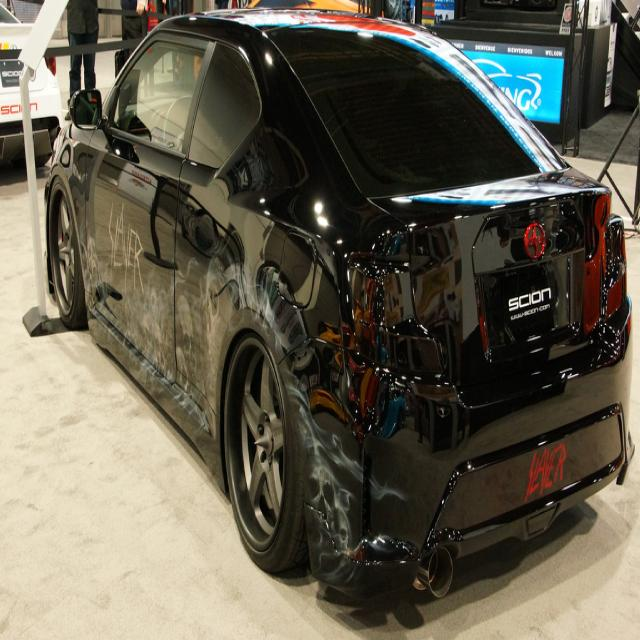car: (43, 7, 635, 603)
